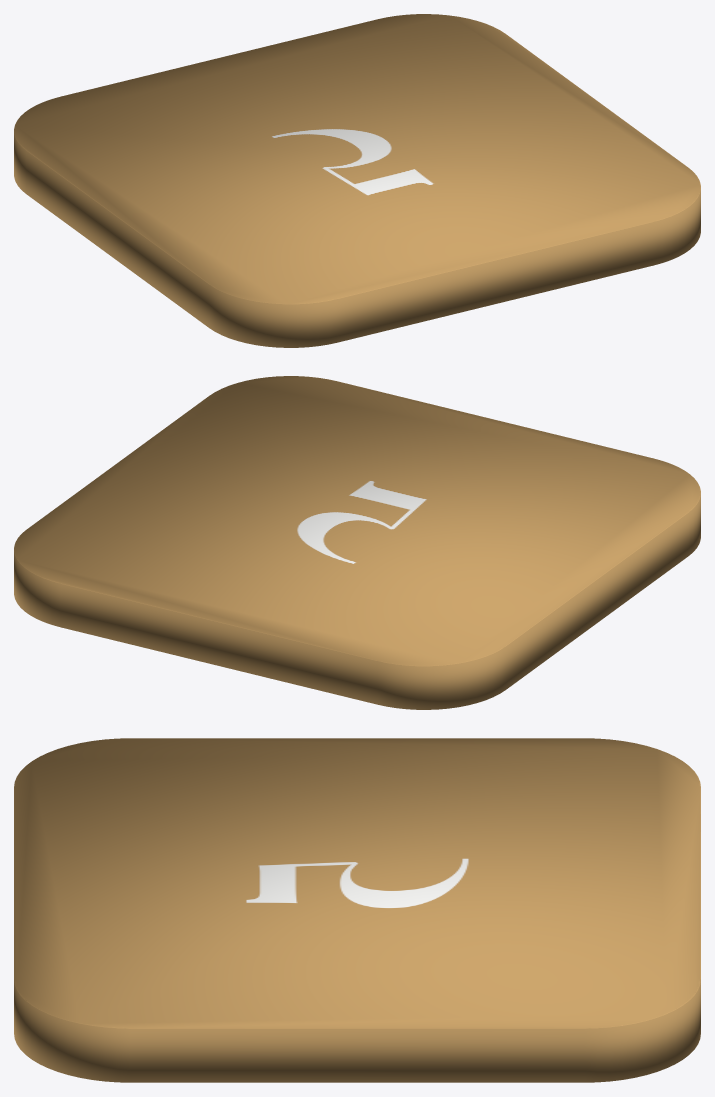
3 views of the same model, one above another, from view 1: azimuth 30°, elevation 25°; view 2: azimuth 150°, elevation 25°; view 3: azimuth 270°, elevation 25° (orthographic). The views are drawn at different scales.
Visible parts, largest first — view 1: sq_5; view 2: sq_5; view 3: sq_5.
Boxes of the visible parts, x1,y1,x2,y2 form: sq_5: (14,14,700,347); sq_5: (14,376,700,709); sq_5: (14,738,700,1082).
Bounding box in the file's own units: 0.0276 × 0.0024 × 0.0276.
2 materials, 1 textured.
